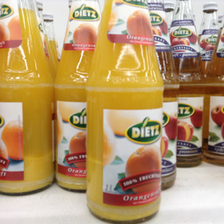juice: (86, 1, 165, 224), (1, 1, 52, 196), (169, 1, 204, 165)
